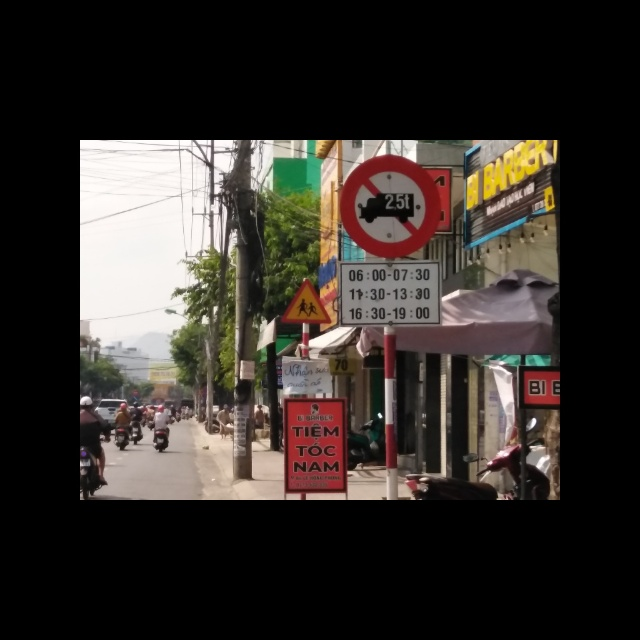Cấm xe tải: (336, 154, 443, 258)
Trẻ em ngang qua: (279, 278, 332, 324)
